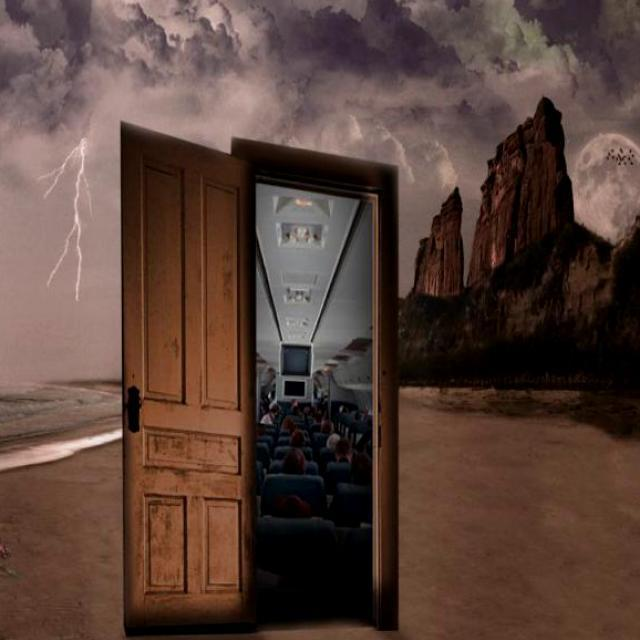door: (119, 120, 256, 633)
